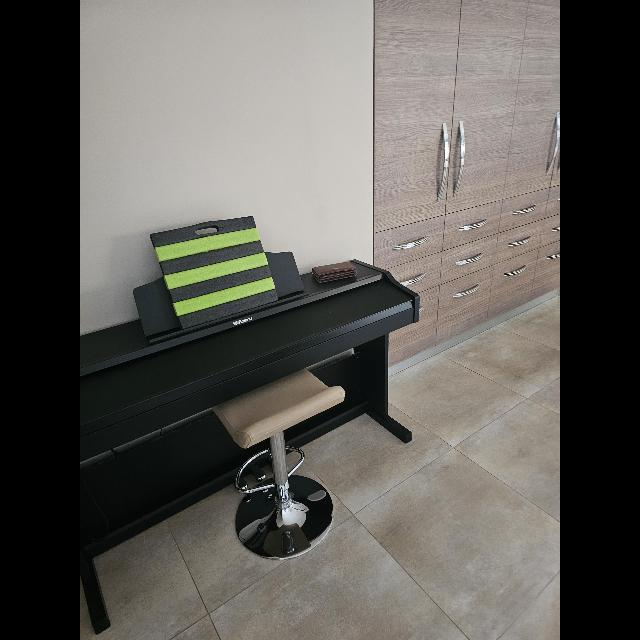Wallet: (311, 262, 357, 282)
